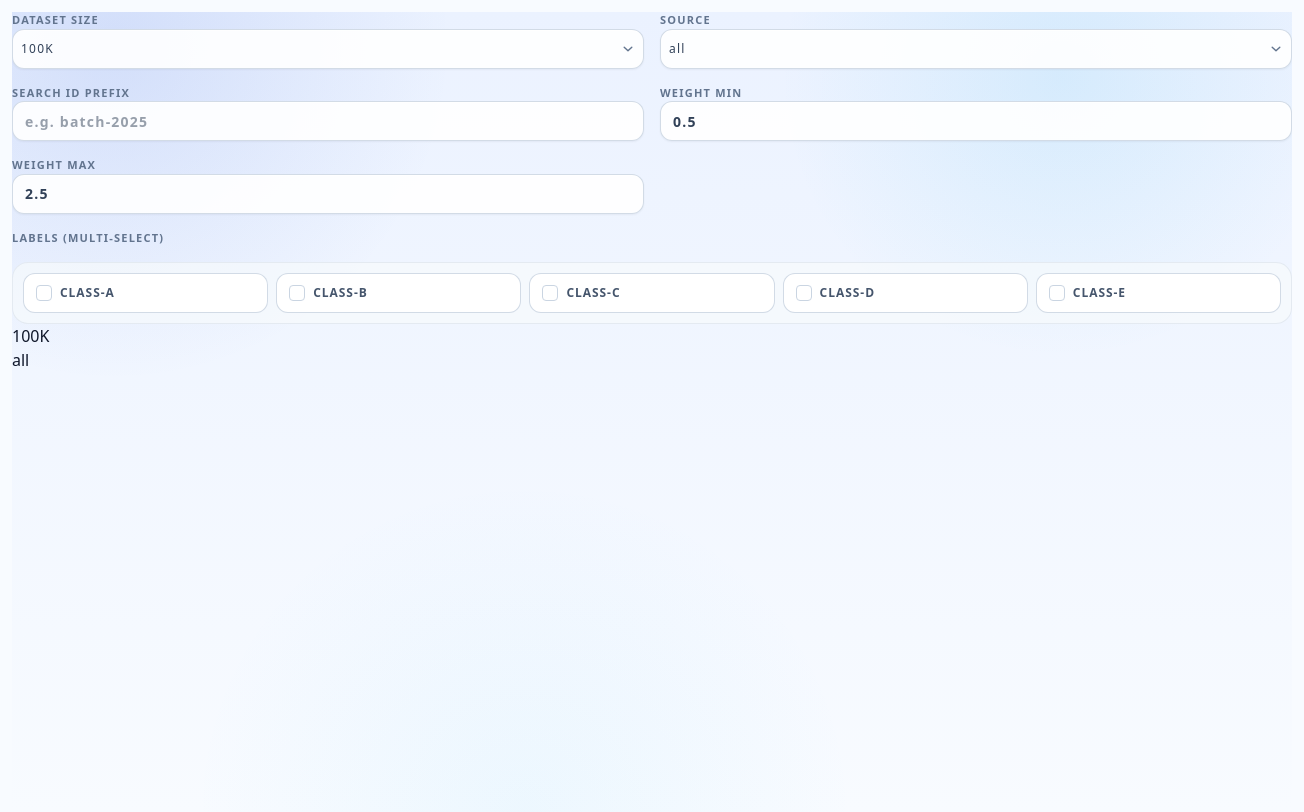
Test: FiltersPanel › updates source and search
Click the dropdown named "Source" at (677, 48), box [660,28,1292,68]
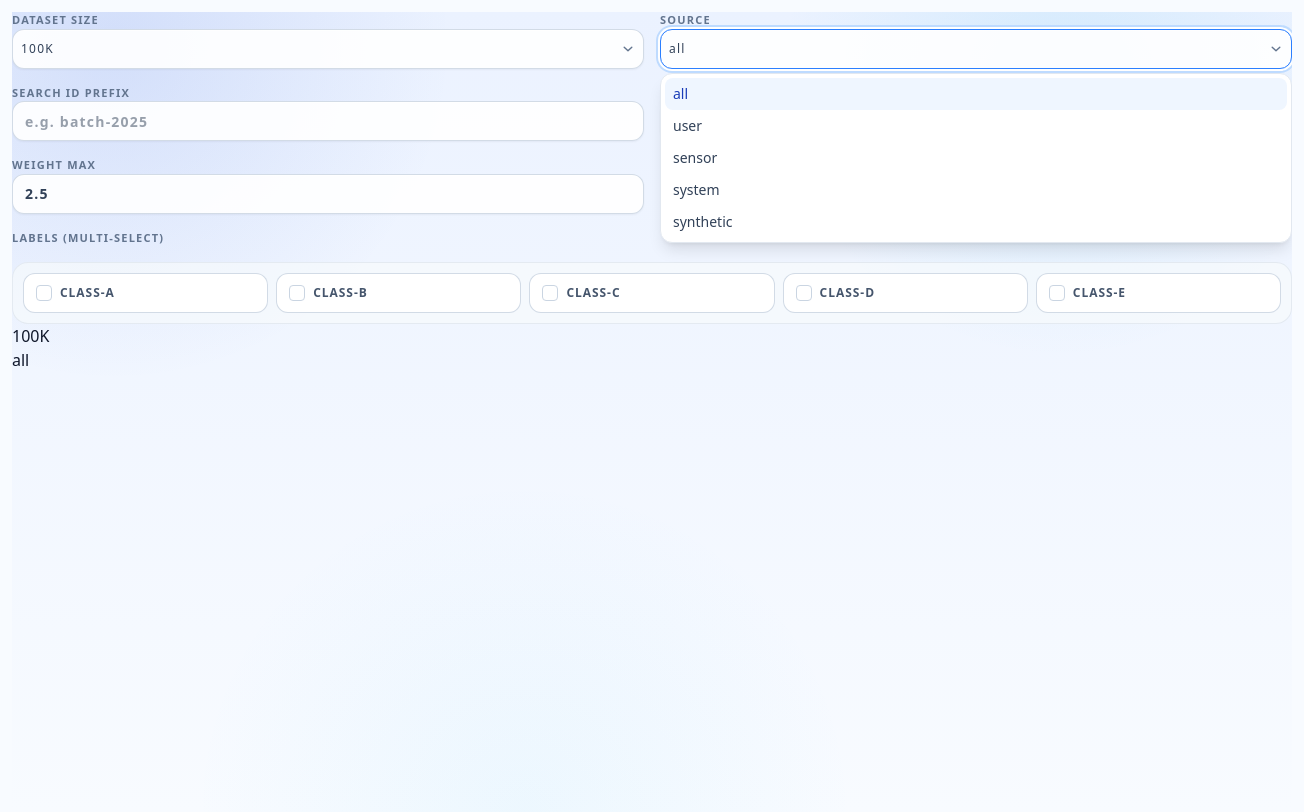
Click the option "user" at (688, 125), box [665,110,1287,142]
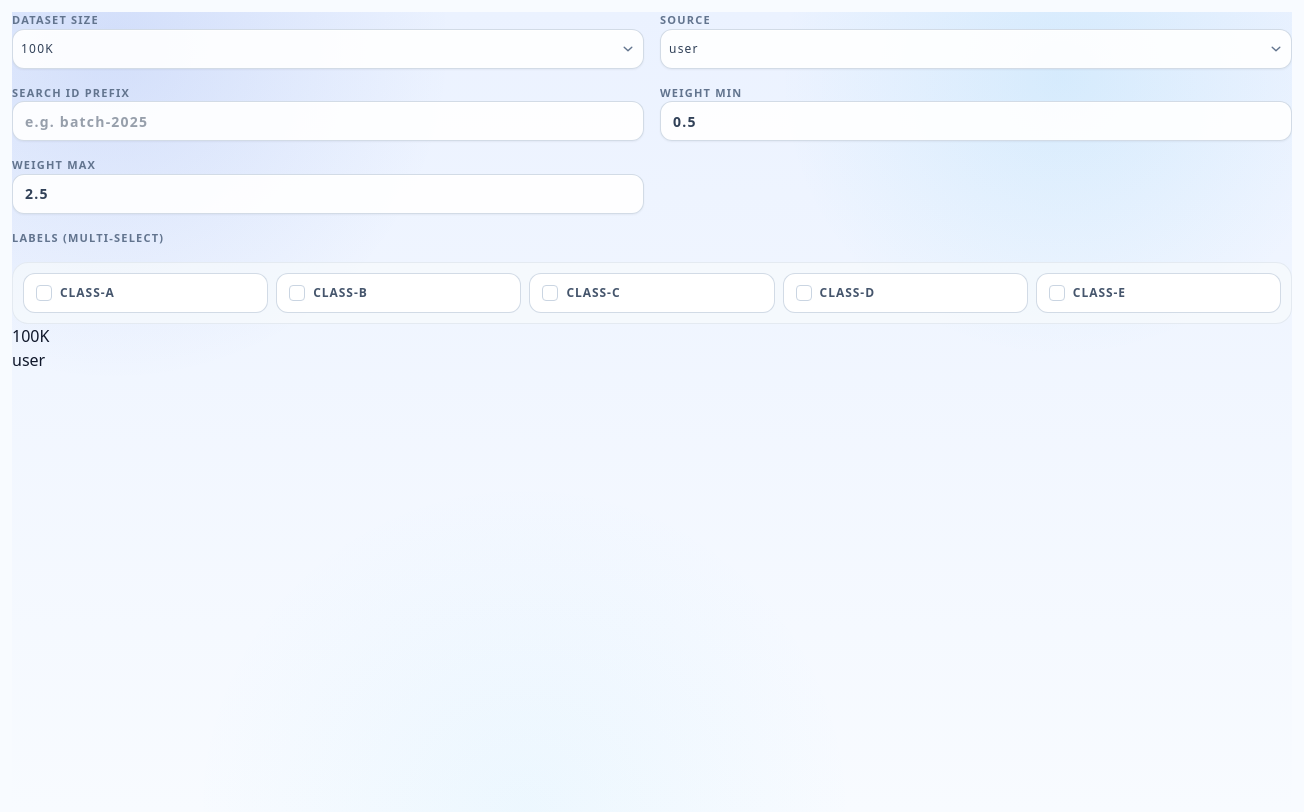
Type "batch-2025" into the field labelled "Search ID prefix" at (328, 121), box [12,101,644,141]
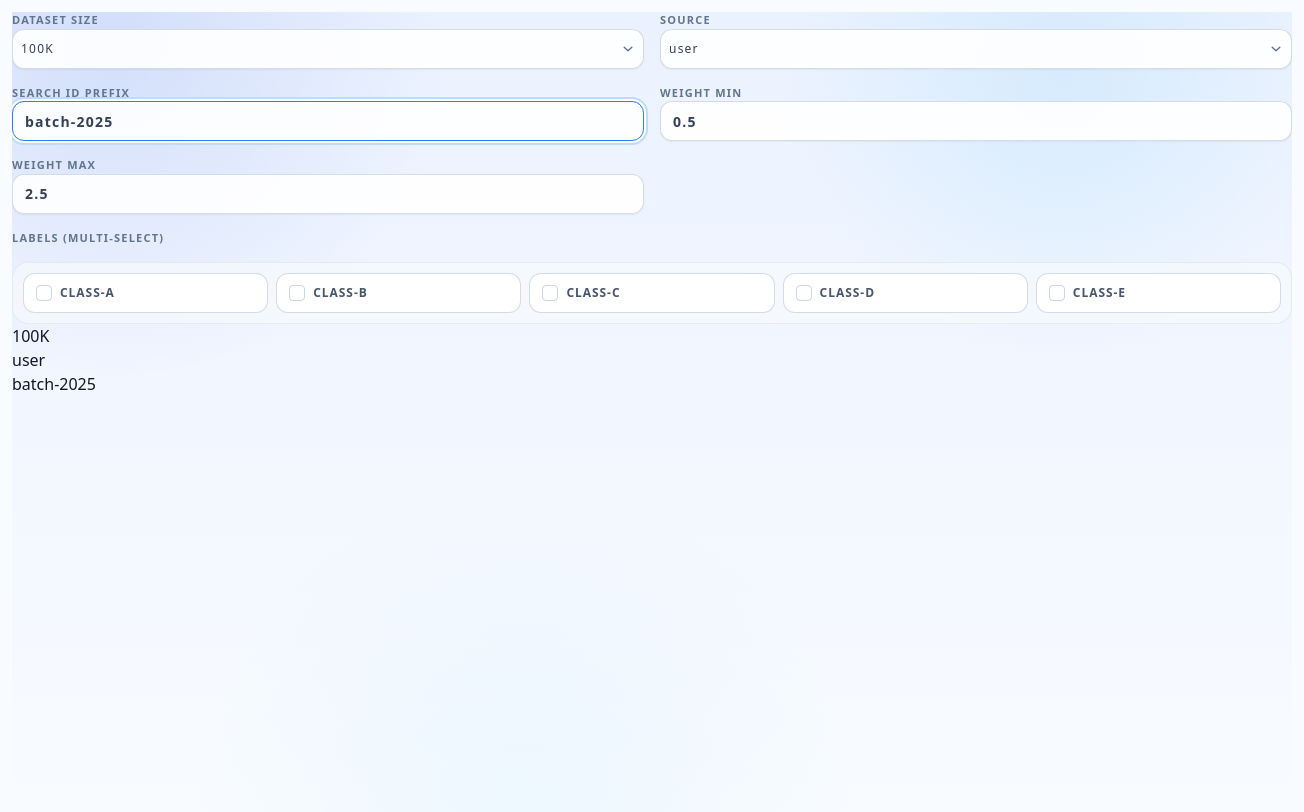
Result: the text with test id "source" reads "user" at [12,349,45,371]
Result: the text with test id "search" reads "batch-2025" at [12,373,96,395]
